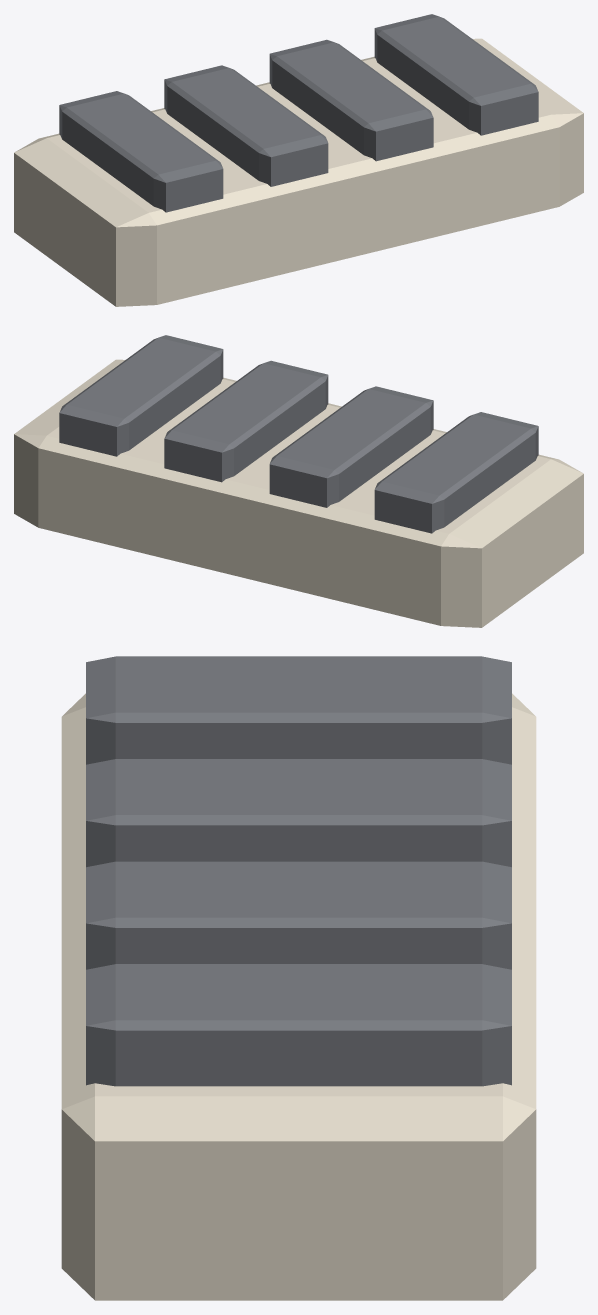
The model's file is b12_standing_seam_metal_canopy.glb.
The picture shows the model from 3 angles, top to bottom: view 1: azimuth 30°, elevation 25°; view 2: azimuth 150°, elevation 25°; view 3: azimuth 270°, elevation 25°; orthographic projection. The views are drawn at different scales.
Visible parts, largest first — view 1: b12_standing_seam_metal_canopy; view 2: b12_standing_seam_metal_canopy; view 3: b12_standing_seam_metal_canopy.
Part boxes in pixels (bbox=[...]): b12_standing_seam_metal_canopy: bbox=[14, 14, 583, 306]; b12_standing_seam_metal_canopy: bbox=[14, 335, 583, 627]; b12_standing_seam_metal_canopy: bbox=[61, 656, 536, 1300].
Bounding box in the file's own units: 3.33 × 0.839 × 1.46.
